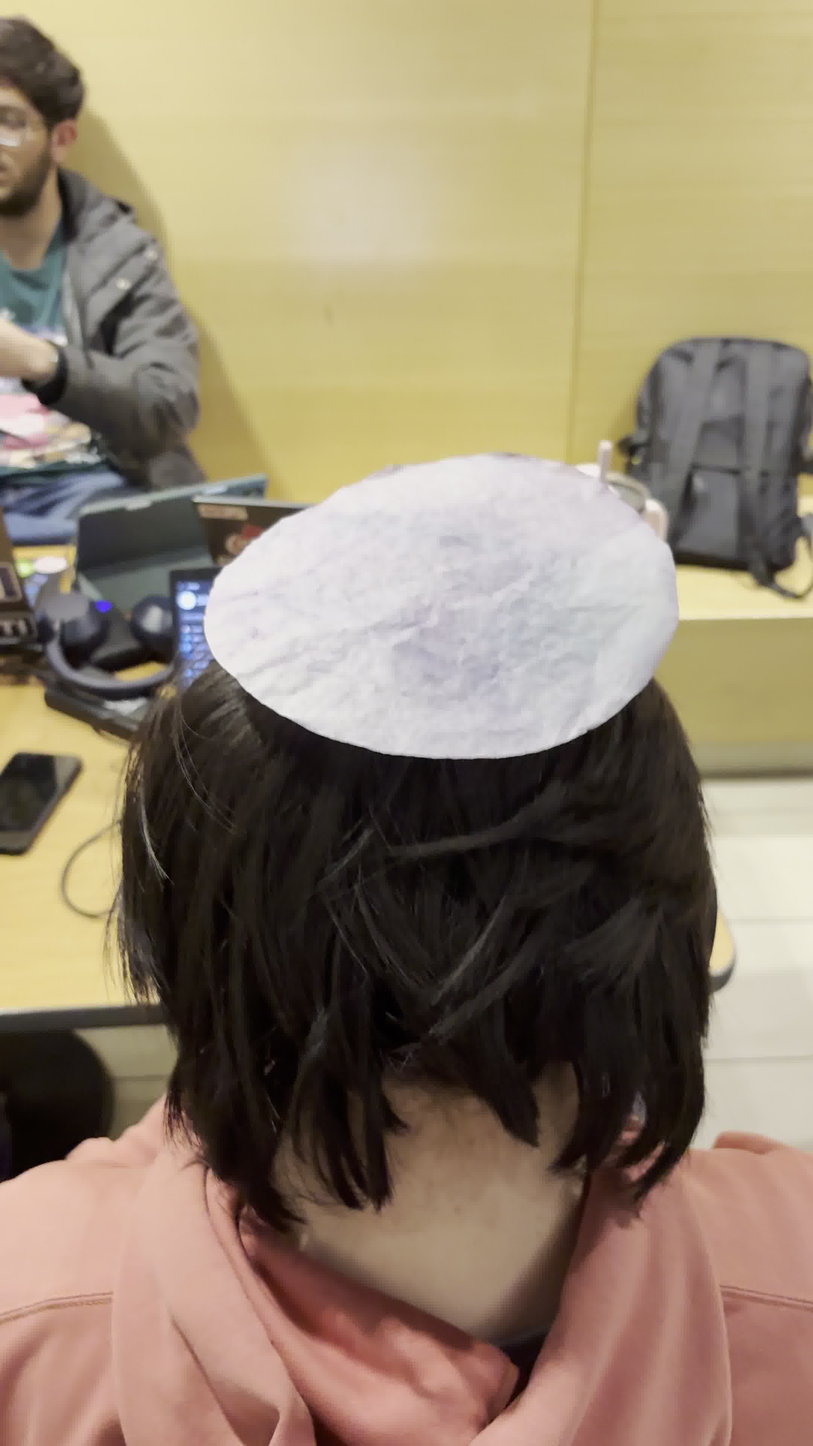Target: (203, 449, 680, 762)
